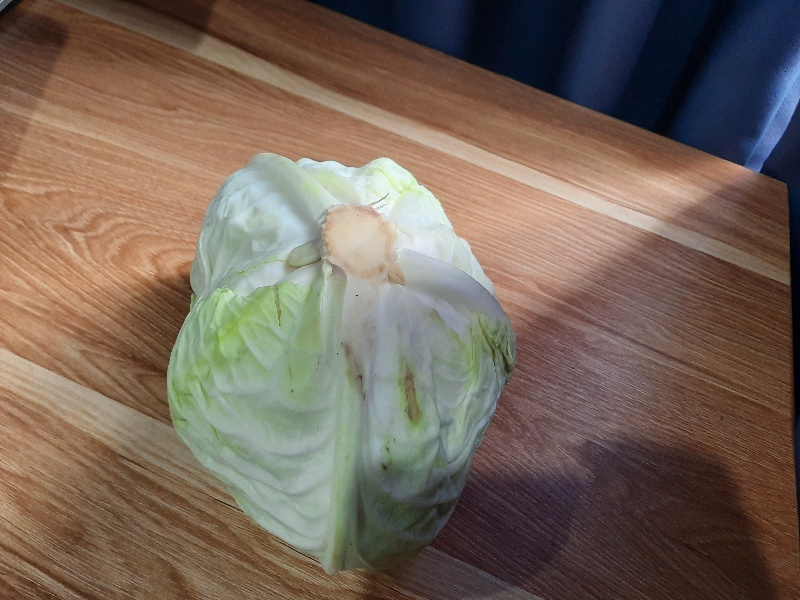vege: (163, 139, 516, 583)
